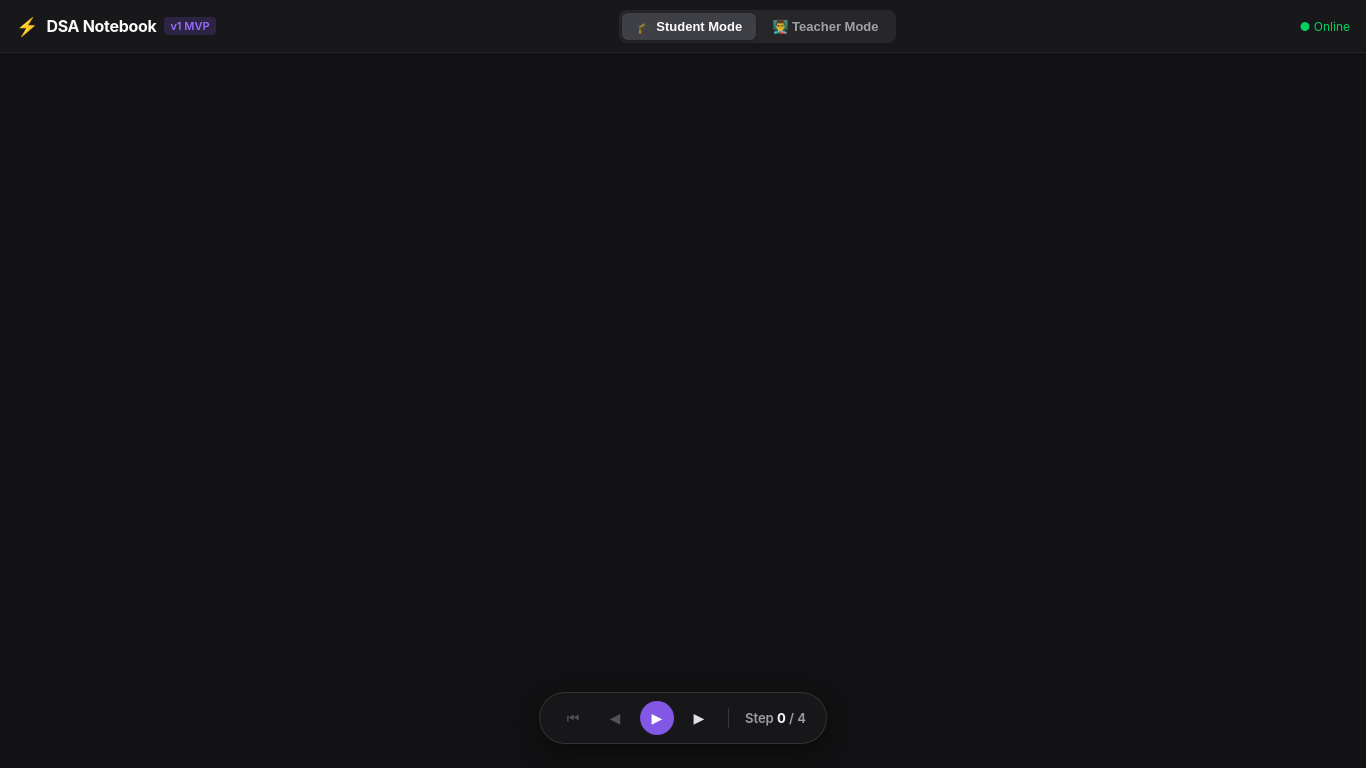
Test: App root component › hides playback dock when switched to Teacher Mode and displays TeacherToolbox
Expected: the element named "step playback controls" is shown, left=539, top=692, right=827, bottom=744
Click the button "👨‍🏫 Teacher Mode" at (825, 26), box left=758, top=12, right=892, bottom=40
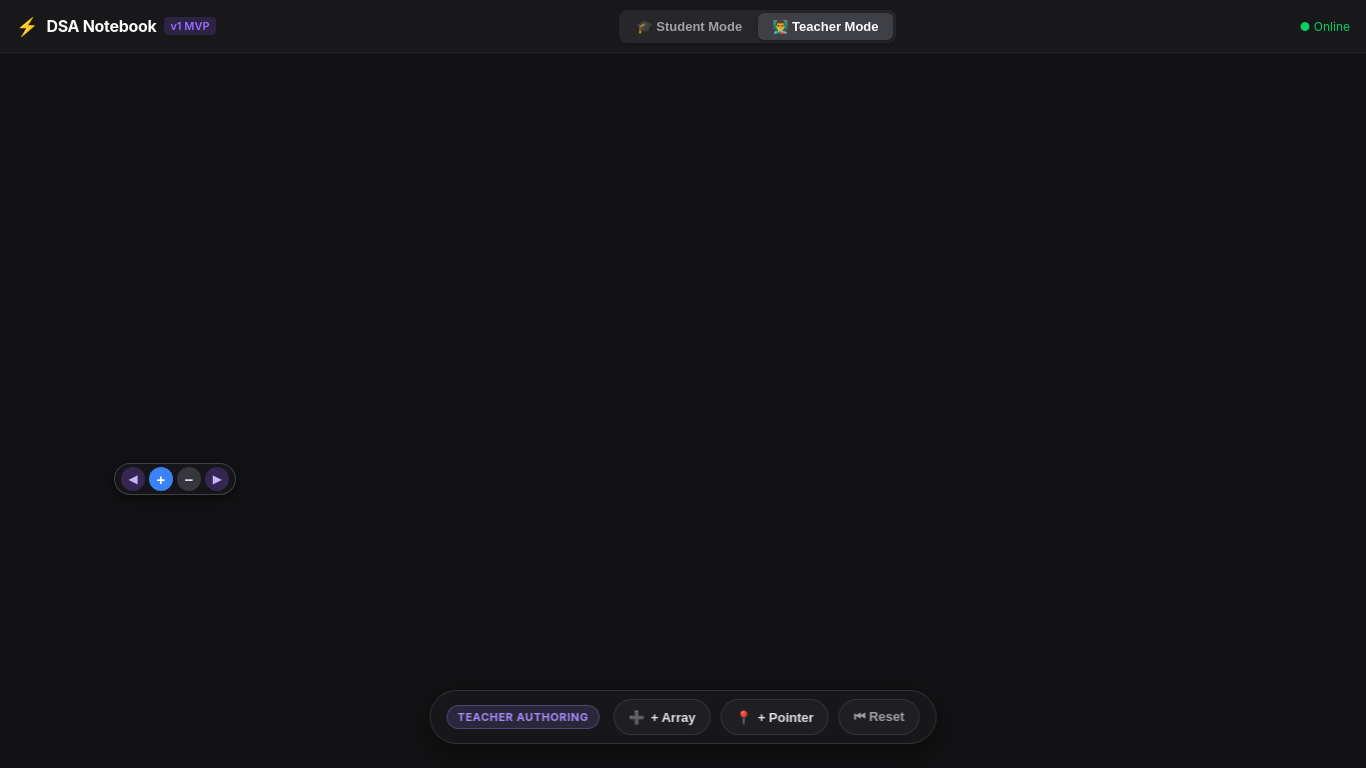
Result: the element named "dsa teacher toolbox" is shown at left=430, top=690, right=936, bottom=744
Result: the button "➕ + Array" is shown at left=614, top=699, right=710, bottom=735
Result: the button "📍 + Pointer" is shown at left=720, top=699, right=829, bottom=735
